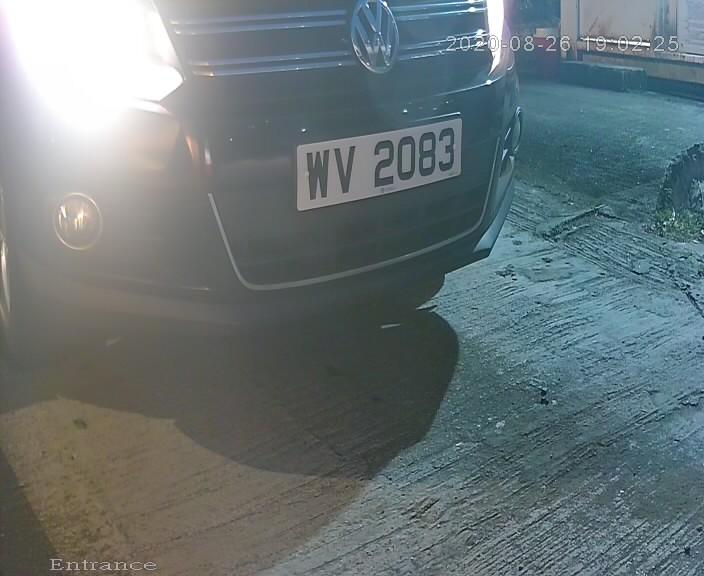License Plate: (277, 109, 466, 217)
